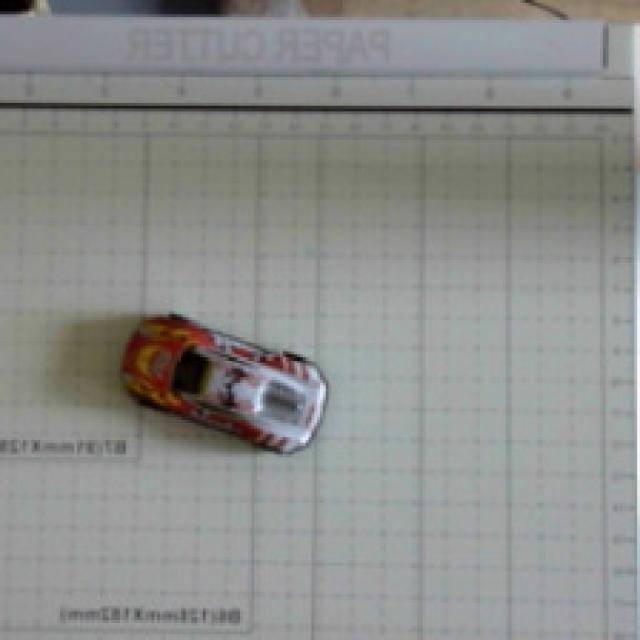Red Car: (97, 277, 416, 536)
